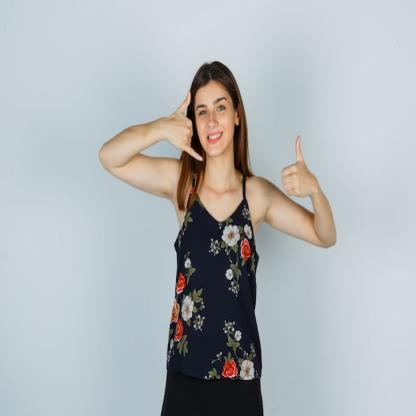thumb_up: (280, 132, 314, 201)
